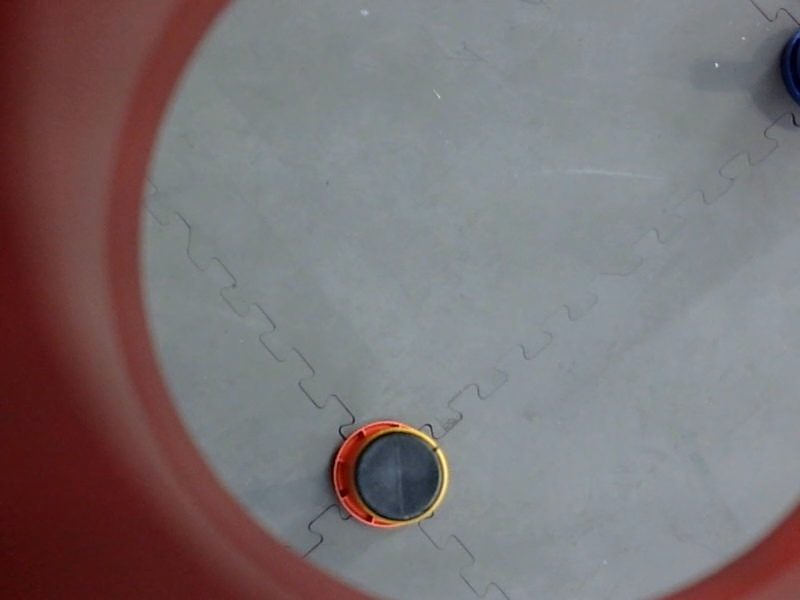tip: (347, 423, 460, 527)
